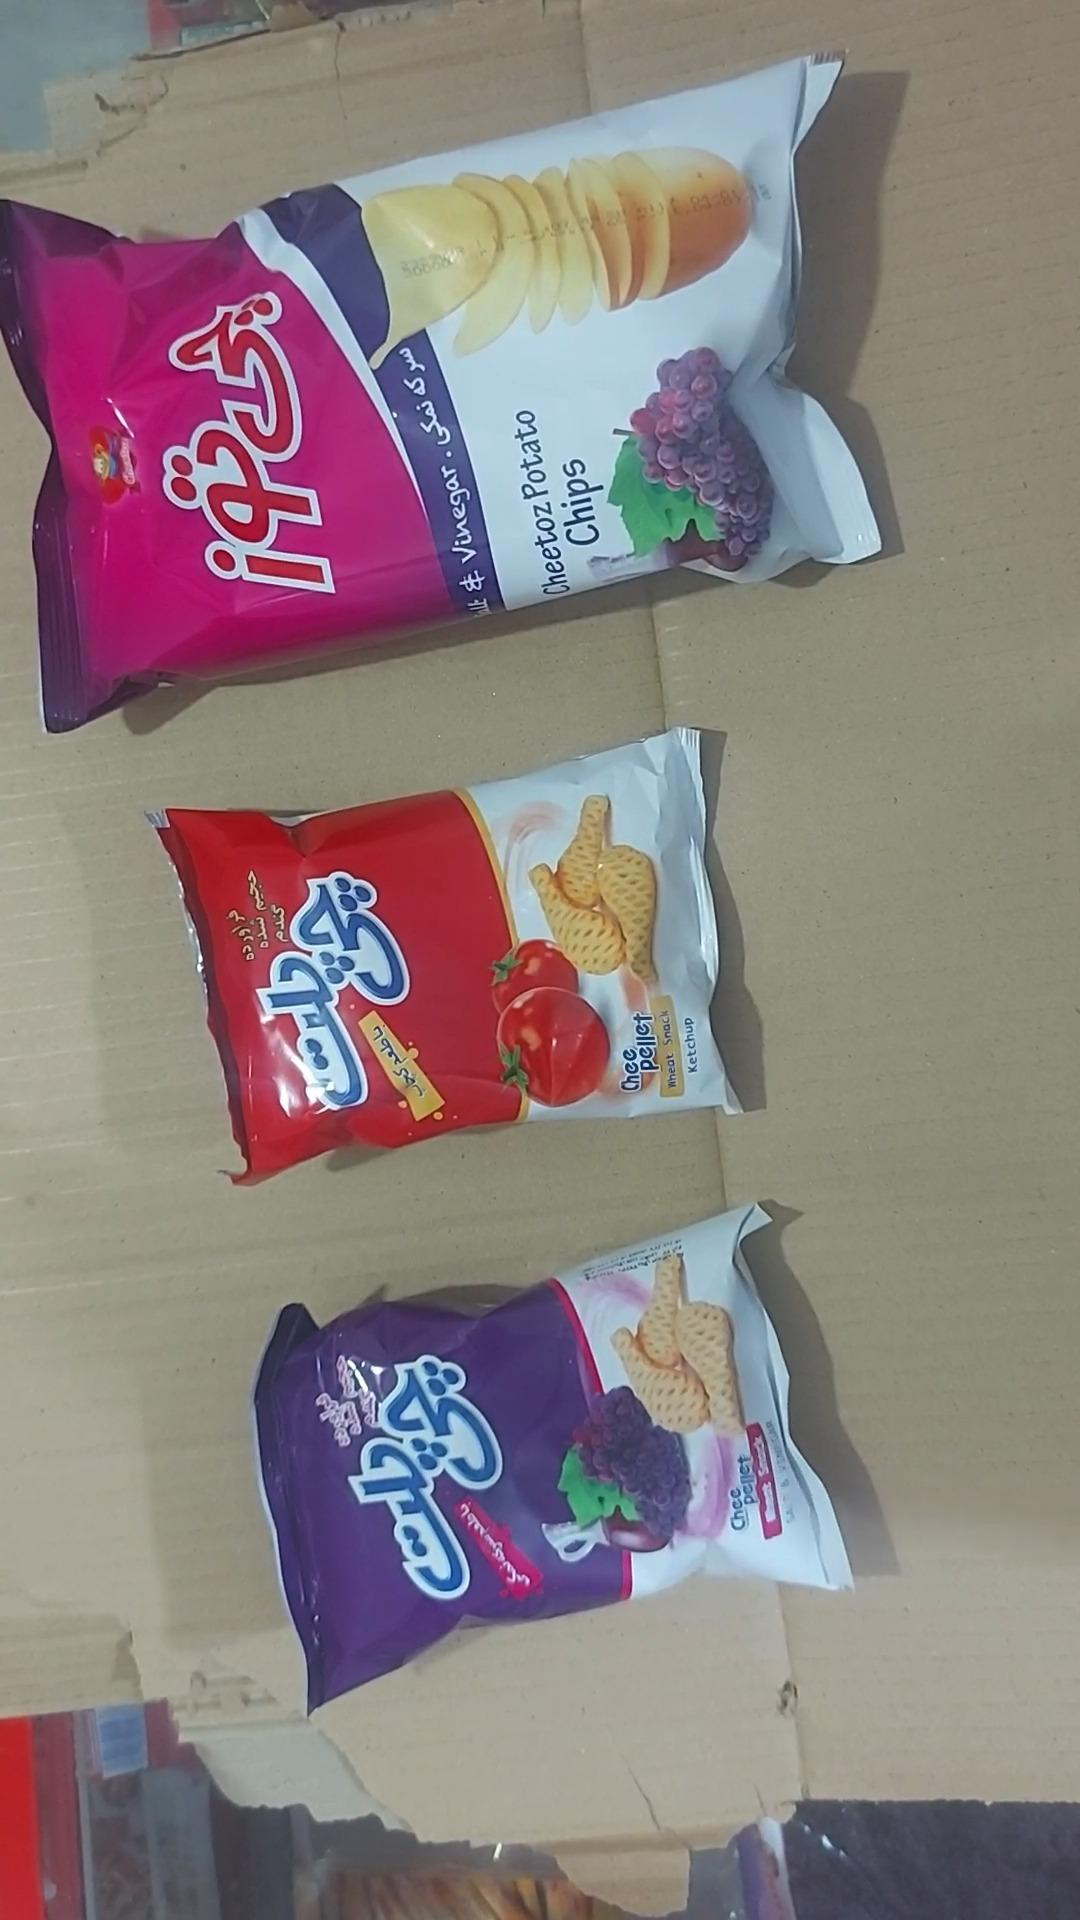Chee pellet ketchup: (145, 728, 742, 1188)
Chee pellet vinegar: (253, 1204, 855, 1712)
Cheetoz vinegar chips: (0, 51, 882, 736)
